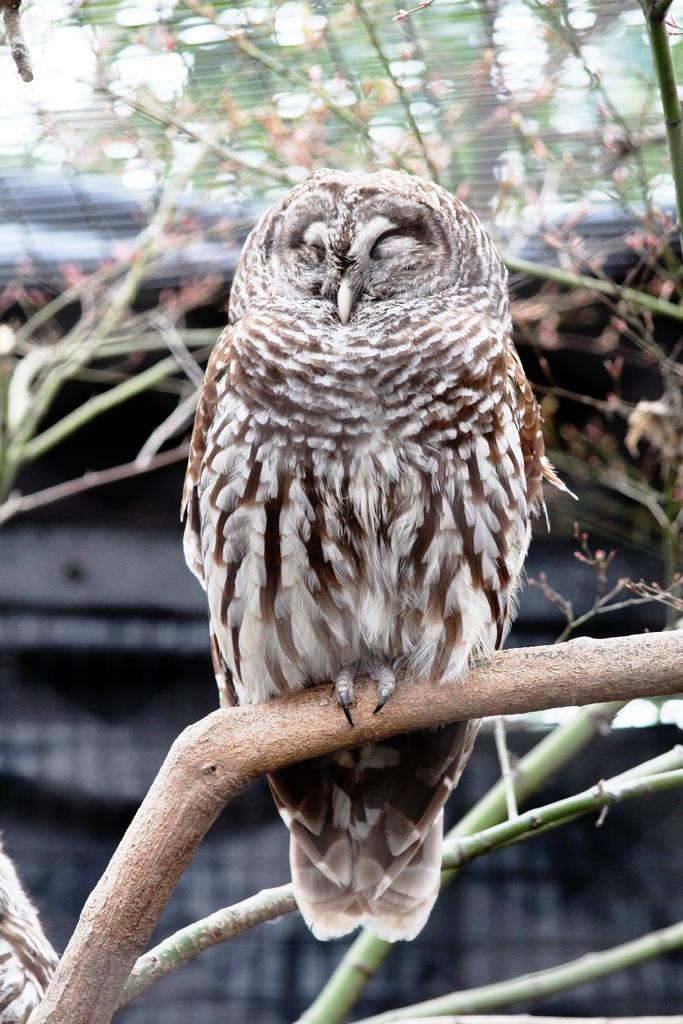Owl: (178, 168, 577, 944)
